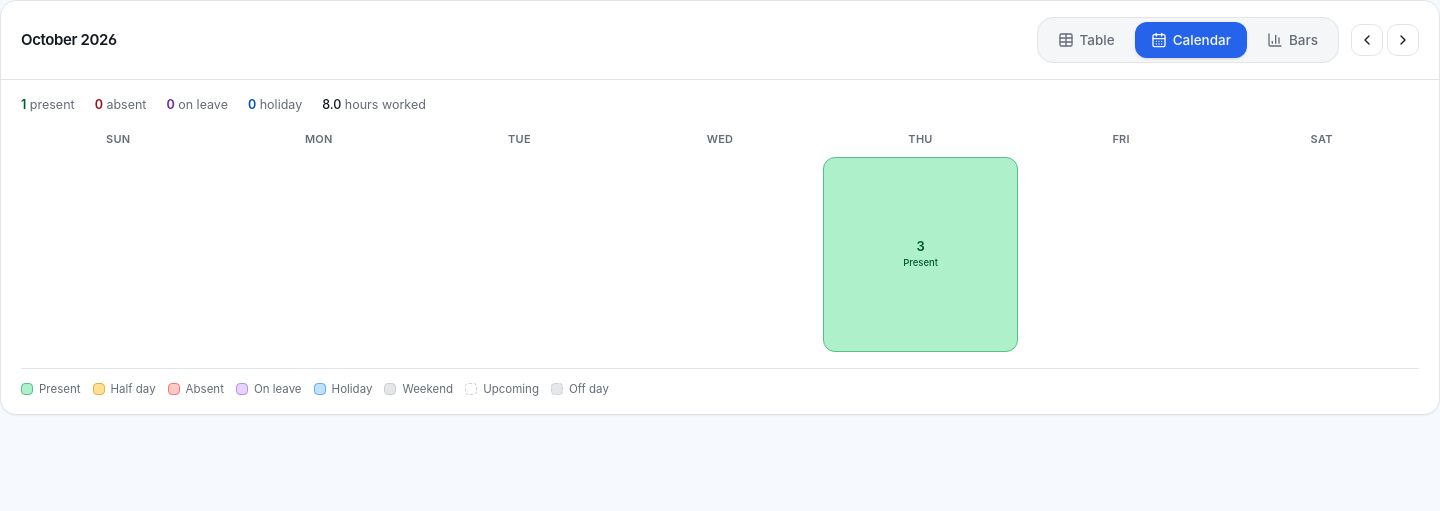
Scenario: the employee attendance view switcher › swaps the rendered view, not just the pressed button
Expected: the table named "attendance calendar" is shown, [21,131,1419,352]
Click the button "Bars" at (1292, 40), box [1251,22,1334,58]
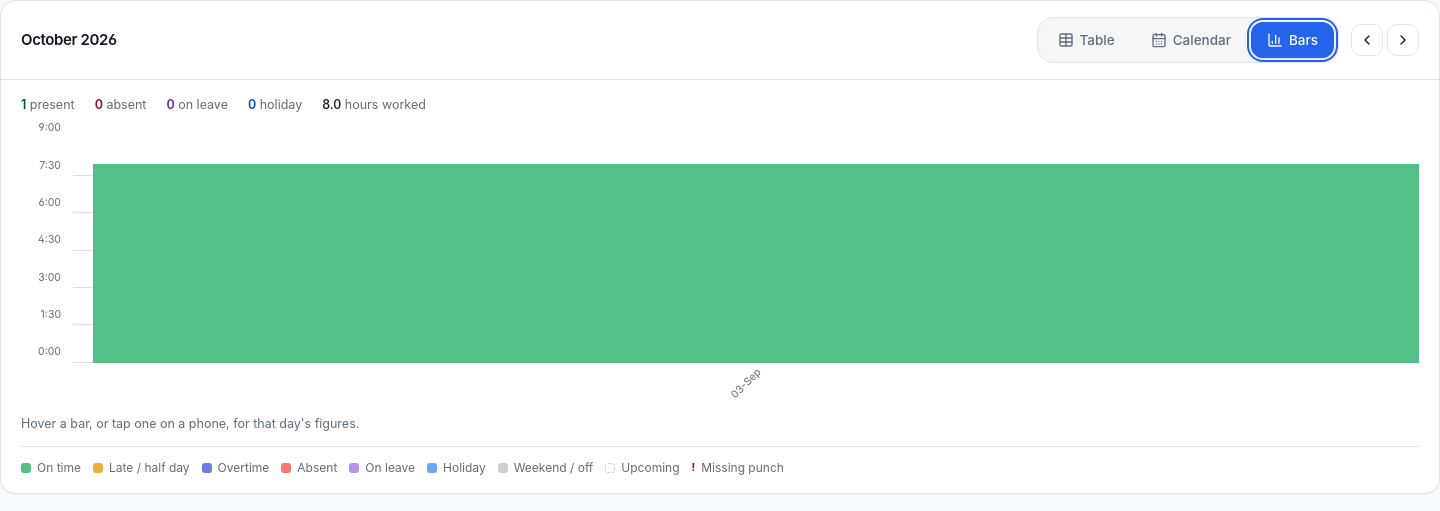
Now the list named "Worked hours per day for Abdul Rehman" is shown, box [93,139,1419,363]
Click the button "Table" at (1086, 40), box [1042,22,1131,58]
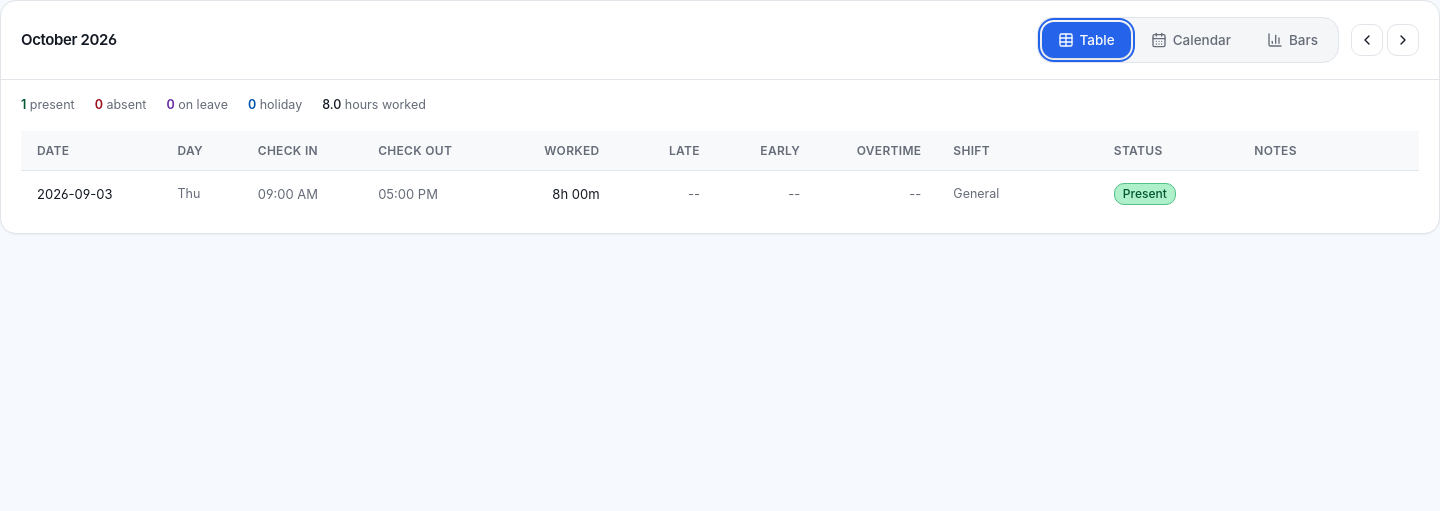
Now the column heading "Worked" is shown, box [495,131,616,171]
Click the button "Calendar" at (1191, 40), box [1135,22,1247,58]
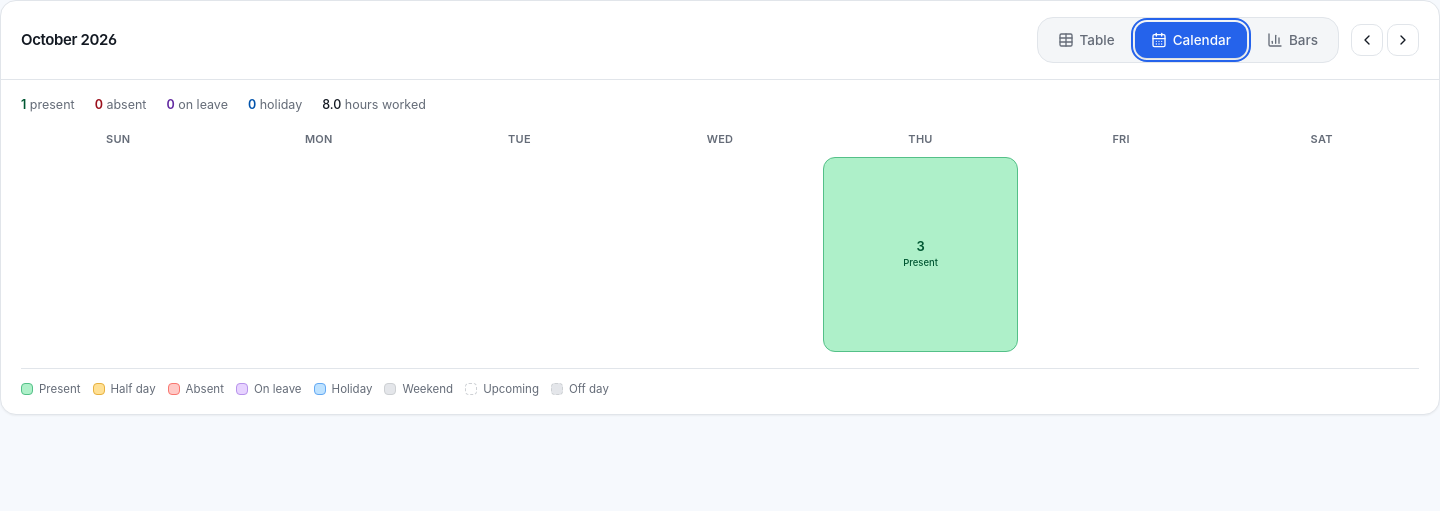
Now the table named "attendance calendar" is shown, box [21,131,1419,352]
